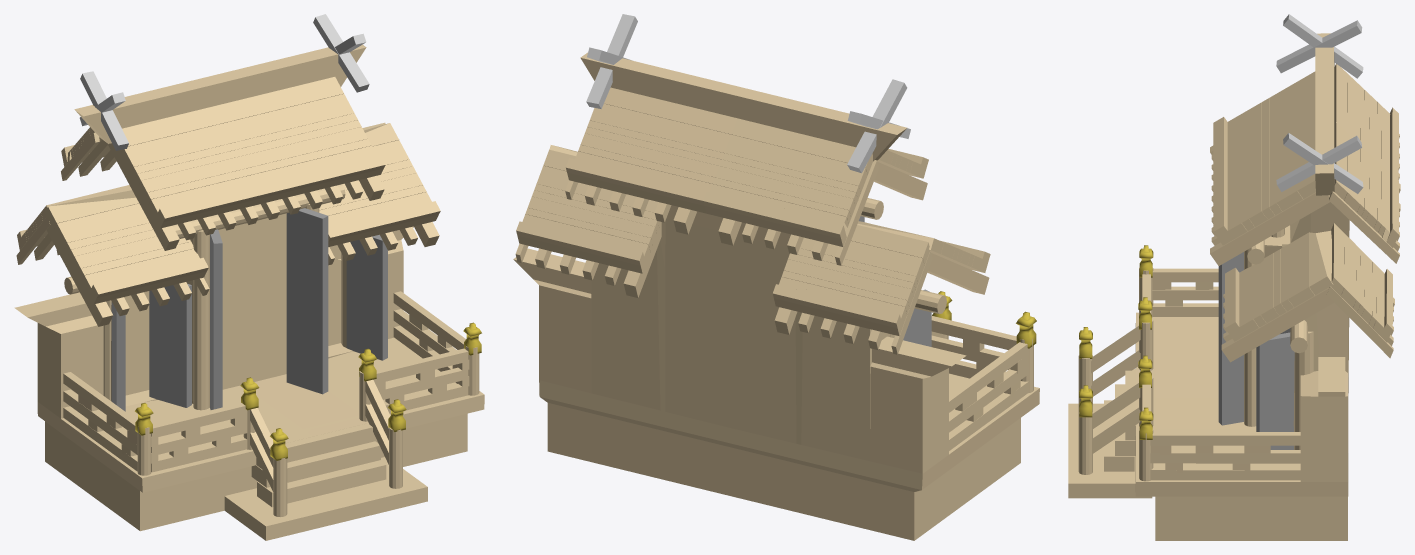
File: kamidana.fbx
3 renders of one model, left to right at view 1: azimuth 30°, elevation 25°; view 2: azimuth 150°, elevation 25°; view 3: azimuth 270°, elevation 25°, orthographic. The views are drawn at different scales.
Visible parts, largest first — view 1: Cube.004; view 2: Cube.004; view 3: Cube.004.
Boxes of the visible parts, <box> form: Cube.004: <box>14,14,484,540</box>; Cube.004: <box>513,14,1039,540</box>; Cube.004: <box>1068,14,1400,540</box>.
Bounding box in the file's own units: 543 × 502 × 394.
